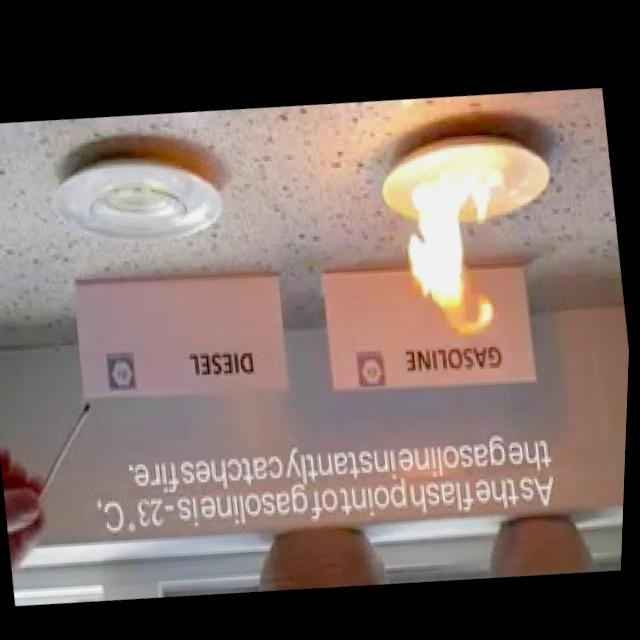Fire: (388, 138, 537, 346)
